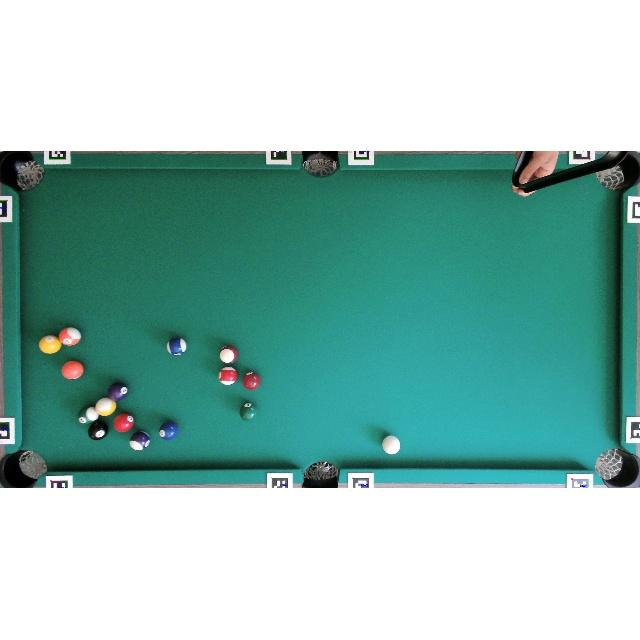cue ball: (382, 436, 401, 455)
other: (59, 326, 81, 346), (38, 335, 61, 354), (166, 336, 187, 356), (88, 419, 108, 440), (62, 361, 84, 380), (108, 382, 128, 402), (95, 398, 116, 417), (130, 431, 150, 450), (159, 421, 179, 440), (218, 366, 238, 385), (114, 413, 134, 432), (78, 406, 99, 424), (242, 372, 261, 391), (240, 402, 258, 422), (219, 346, 238, 364)
